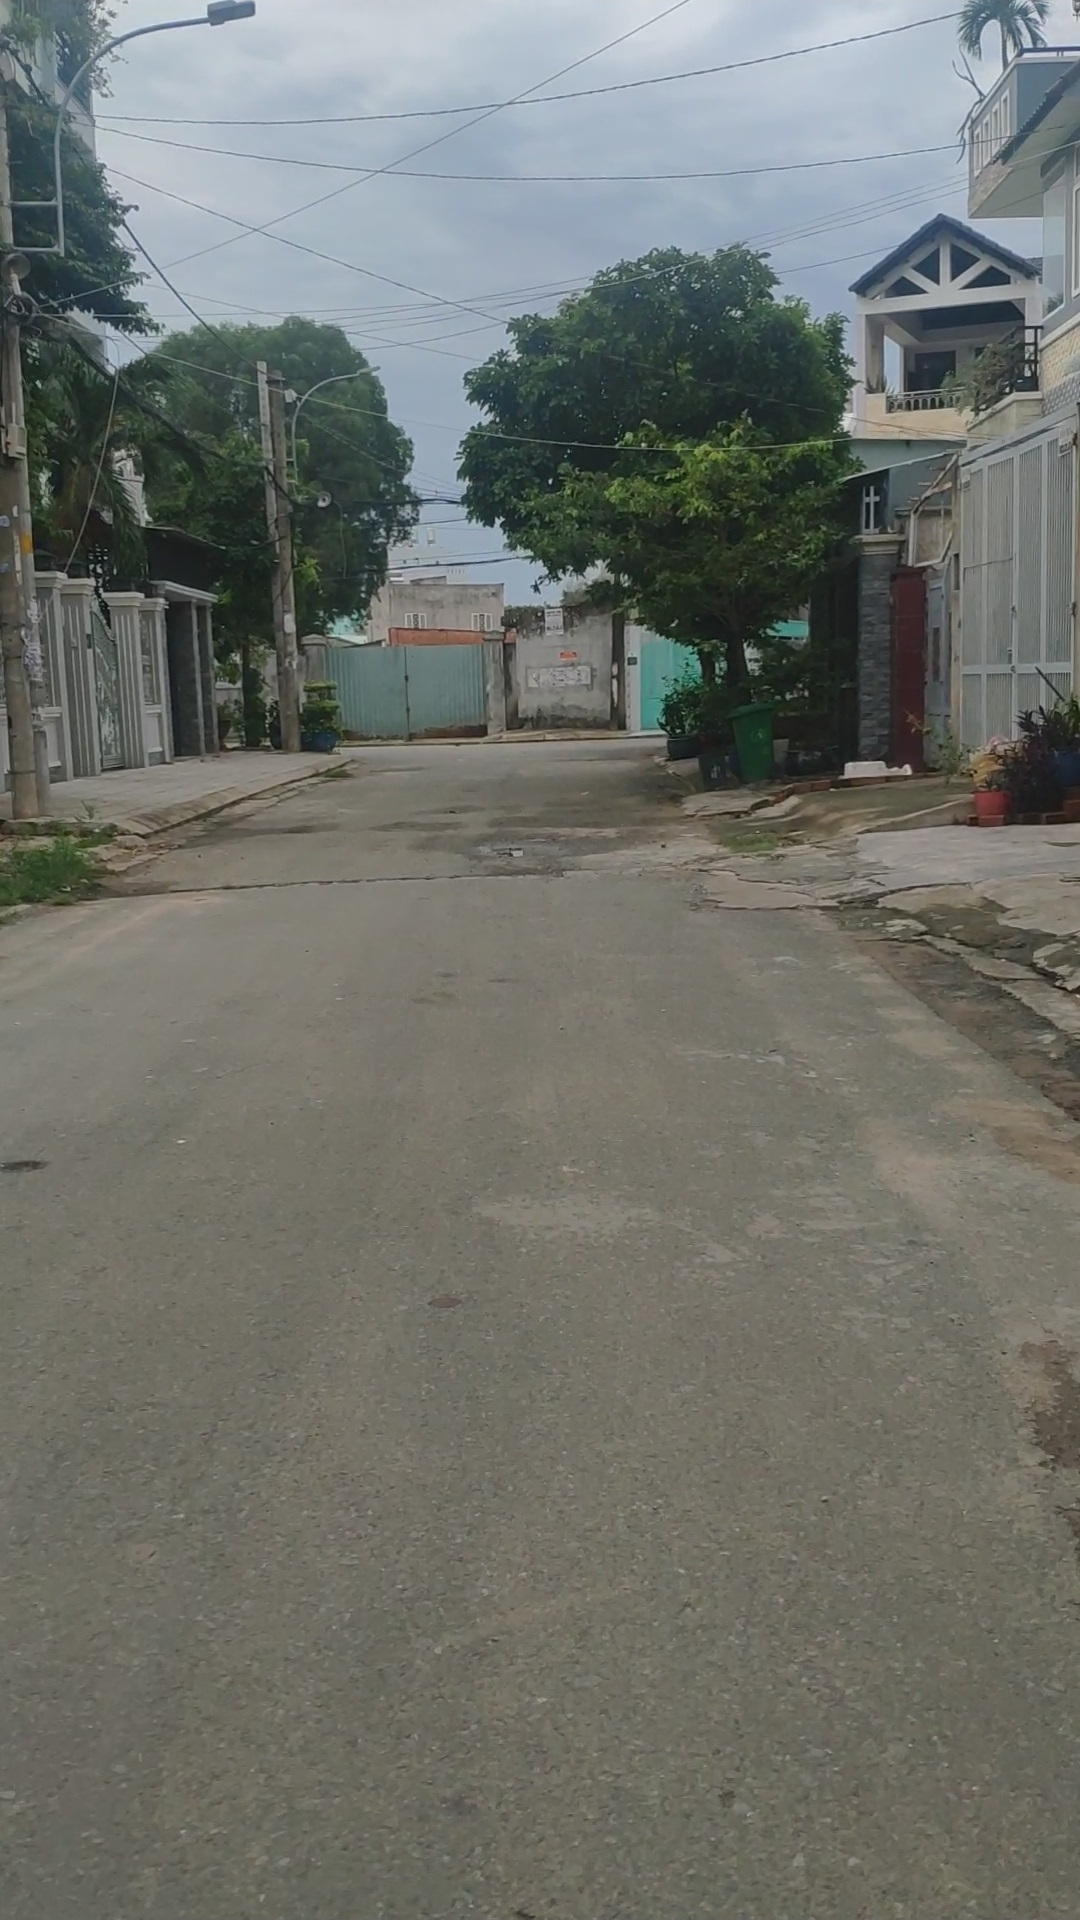hole: (477, 840, 535, 861), (683, 808, 753, 825), (680, 895, 725, 913)
